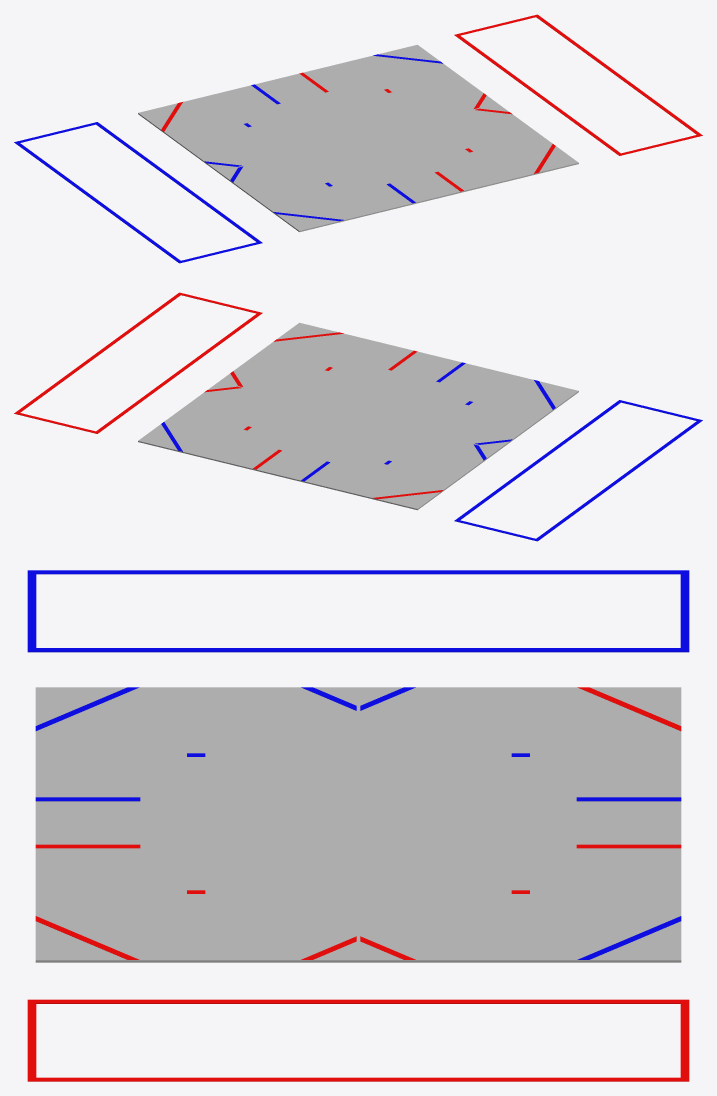
File: mats and tape.fbx
3 views of the same model, one above another, from view 1: azimuth 30°, elevation 25°; view 2: azimuth 150°, elevation 25°; view 3: azimuth 270°, elevation 25° (orthographic). The views are drawn at different scales.
Visible parts, largest first — view 1: Body1 (×38); view 2: Body1 (×38); view 3: Body1 (×38).
Part boxes in pixels (x1,y1,x2,y2): Body1 (×38): (14,14,702,263); Body1 (×38): (14,292,702,541); Body1 (×38): (27,570,689,1081).
Bounding box in the file's own units: 263 × 0.6206 × 144.
